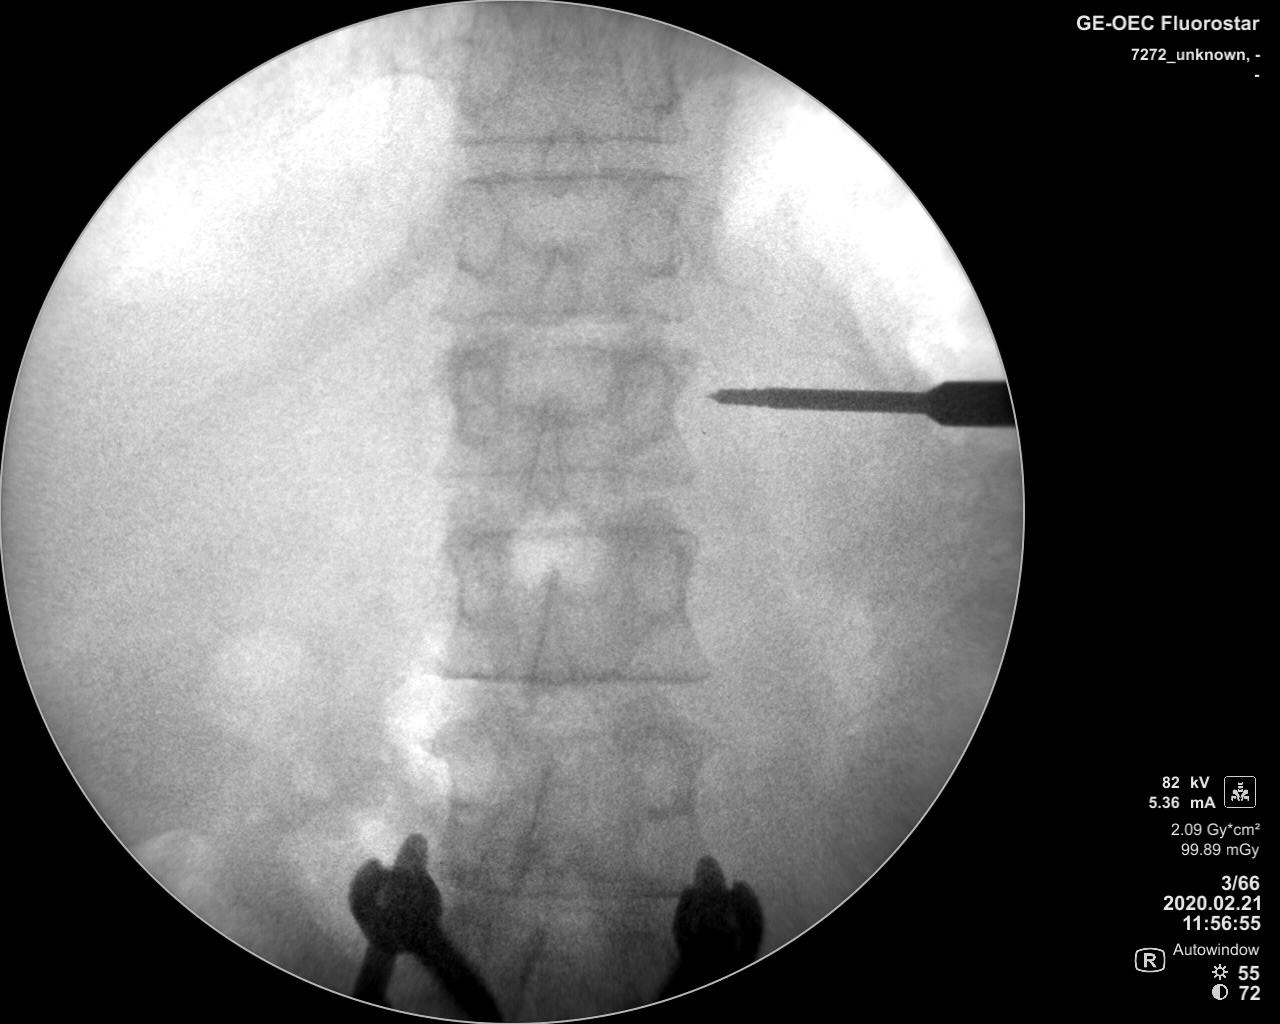eyes: (433, 522, 515, 626), (421, 725, 511, 818), (614, 725, 696, 819), (615, 176, 684, 277), (621, 530, 691, 625), (613, 352, 680, 451), (447, 345, 513, 444), (441, 176, 503, 278)
line: (425, 452, 696, 502), (411, 656, 730, 696), (436, 859, 684, 906), (433, 117, 691, 156), (429, 300, 685, 334), (430, 160, 692, 193)
nose: (522, 554, 580, 704), (519, 750, 571, 878), (519, 402, 571, 519), (529, 229, 581, 333), (537, 103, 587, 200)
